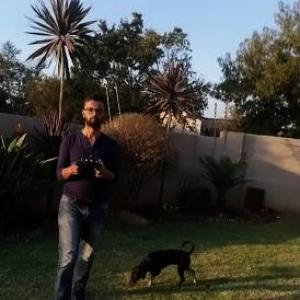follow: (52, 89, 121, 299)
null: (126, 235, 200, 292)
